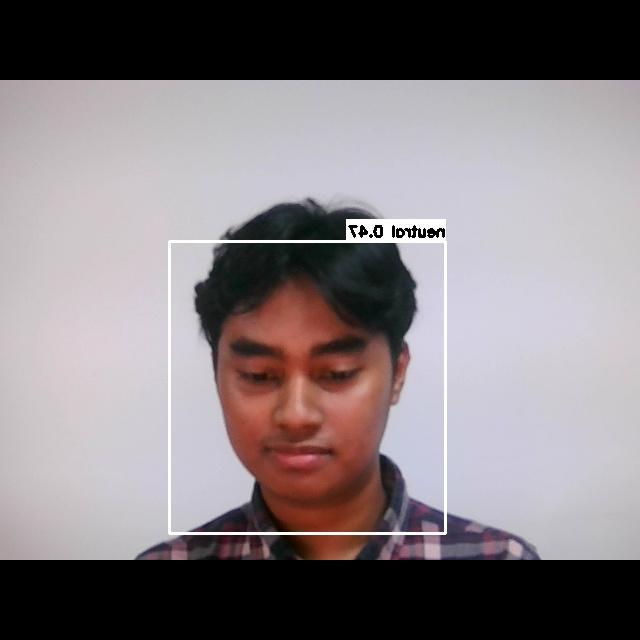Natural: (212, 313, 391, 474)
